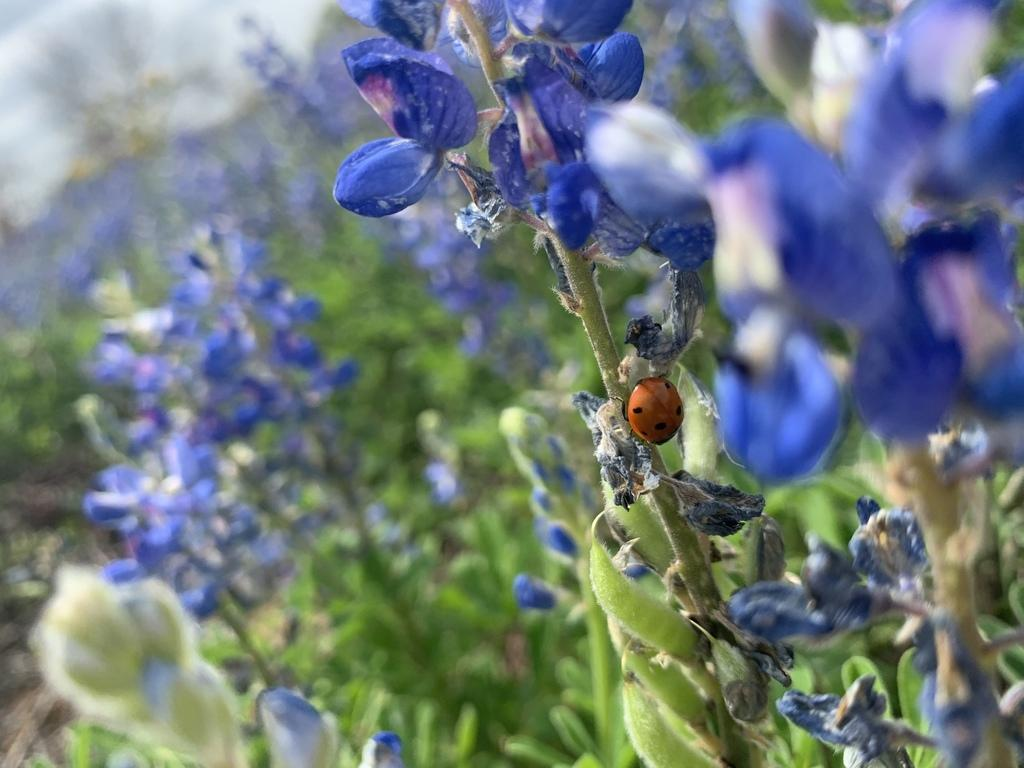ladybug: (621, 369, 687, 448)
